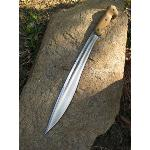Golok: (40, 2, 122, 138)
